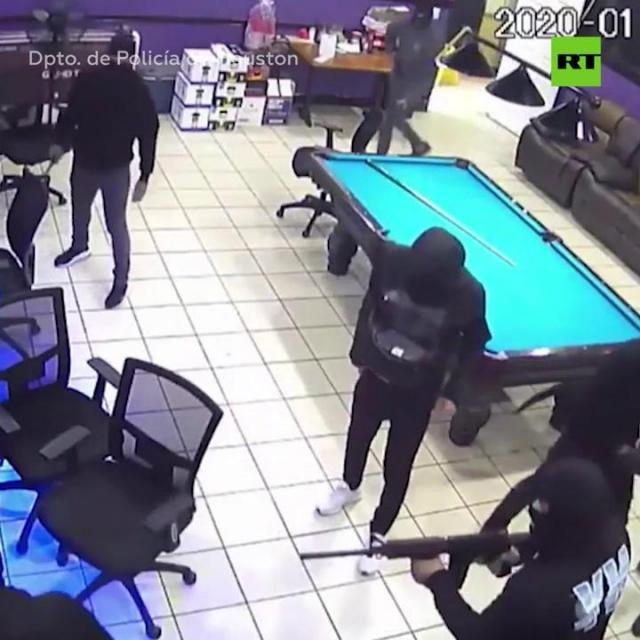weapon: (273, 518, 534, 603)
